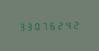four: (65, 19, 72, 30)
seven: (41, 20, 48, 31)
six: (49, 20, 56, 30)
three: (25, 20, 32, 31), (17, 21, 24, 31)
two: (57, 19, 64, 30), (73, 19, 80, 29)
zero: (33, 20, 40, 31)
